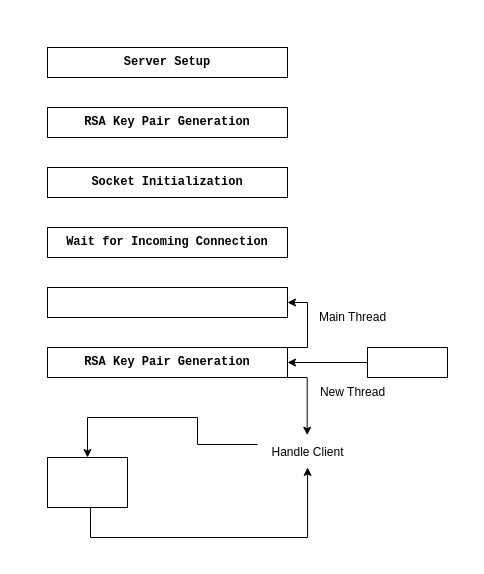
The diagram is 484 pixels wide and 574 high, and some of its shapes have lost their labels. Here are the shapes that lost their labels. From the top down, the centre of each, then its label:
the point at 167,302: New Connection Request
the point at 407,362: Client
the point at 87,482: Secure Key Generation
